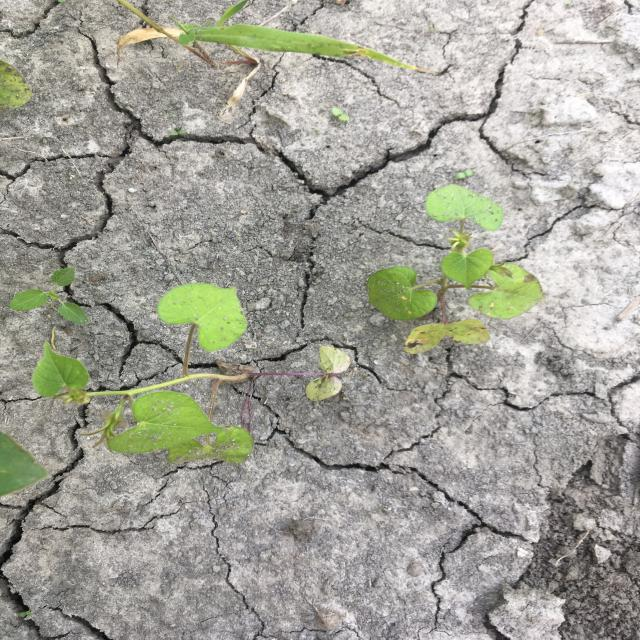MorningGlory: (30, 282, 352, 465), (364, 182, 548, 357)
PricklySida: (8, 267, 90, 326)
